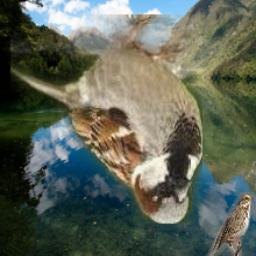Sparrow: (12, 14, 204, 224), (205, 192, 254, 256)
